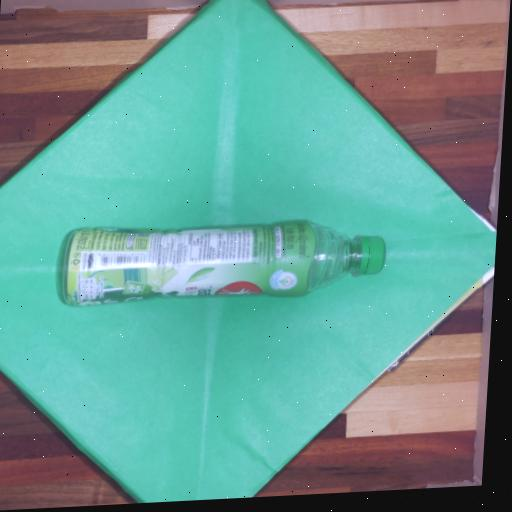bottle: (38, 199, 408, 326)
